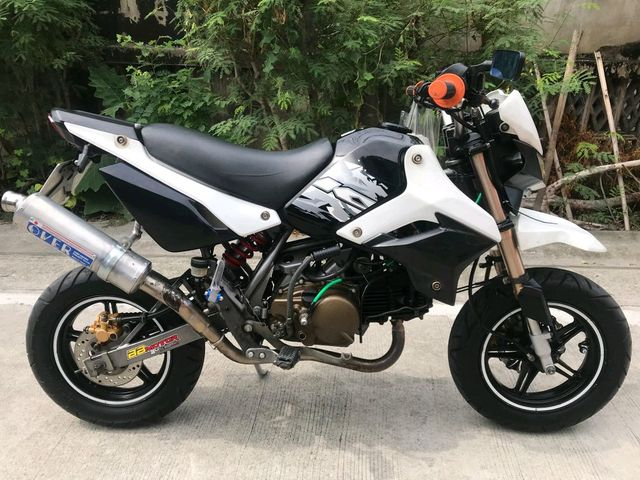motorcycle: (21, 84, 629, 431)
